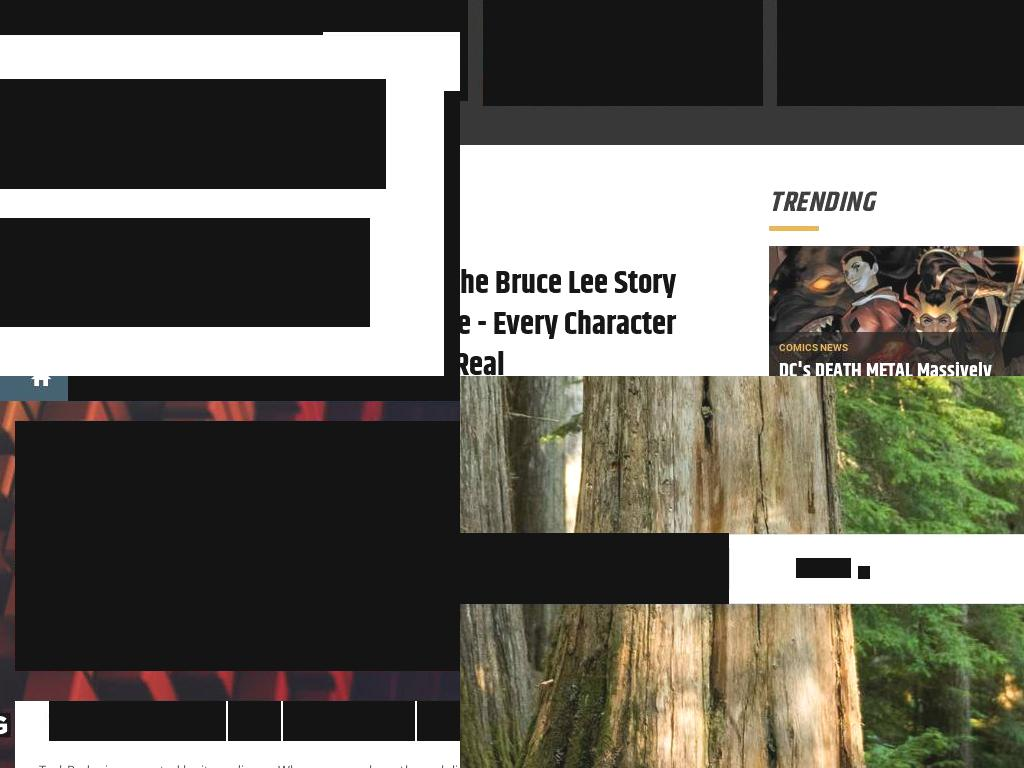button: (769, 246, 1024, 376), (483, 0, 763, 106), (777, 0, 1024, 106), (283, 701, 415, 741), (130, 701, 226, 741), (460, 246, 729, 259), (322, 0, 419, 32), (157, 376, 249, 401), (68, 376, 157, 401), (249, 376, 338, 401), (228, 701, 281, 741), (417, 701, 460, 741), (397, 376, 460, 401), (338, 376, 397, 401), (418, 0, 460, 32), (779, 341, 848, 354), (495, 13, 561, 26), (790, 13, 852, 26)
field: (460, 533, 729, 604)
heading: (0, 79, 386, 189), (460, 263, 729, 376), (495, 30, 750, 93), (790, 30, 1024, 93), (460, 185, 729, 232), (769, 185, 1024, 232), (779, 358, 1024, 376)
iframe: (15, 421, 460, 671)
image: (769, 246, 1024, 376), (483, 0, 763, 106), (777, 0, 1024, 106), (858, 566, 870, 579)
text: (0, 218, 370, 327), (49, 701, 130, 741), (39, 761, 460, 768), (244, 0, 323, 35), (168, 0, 245, 35), (100, 0, 169, 35), (34, 0, 101, 35), (796, 558, 851, 578)
